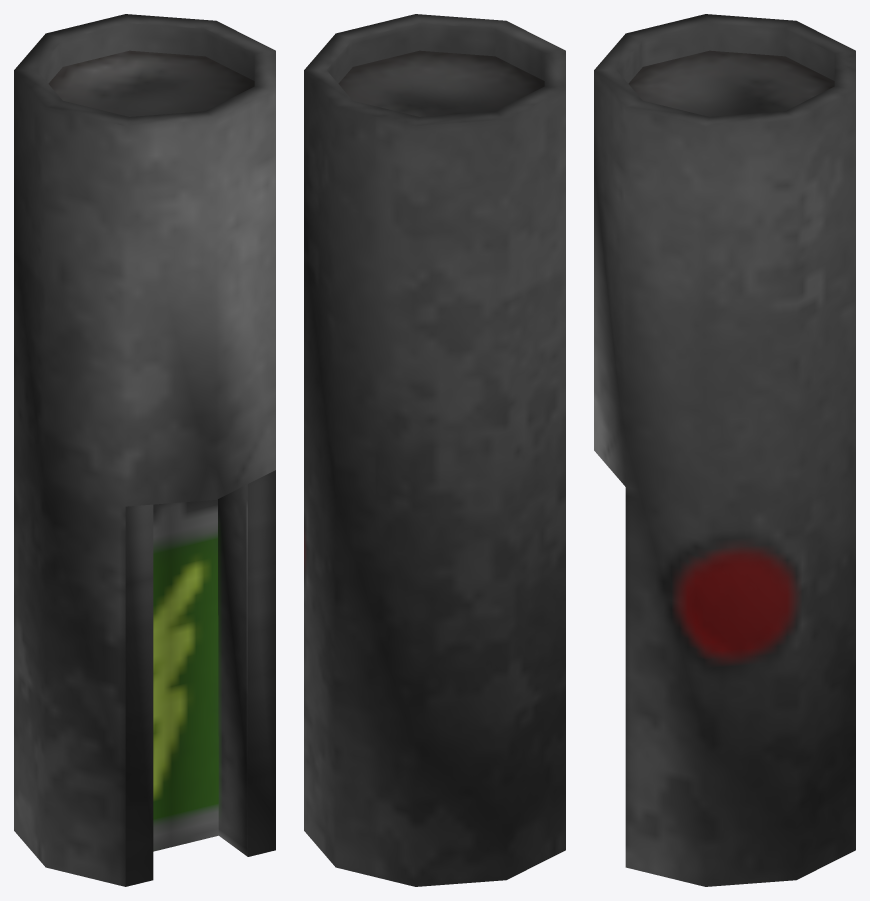
The model's file is TLOG_SmallPipeFlashlight.fbx.
The picture shows the model from 3 angles, left to right: view 1: azimuth 30°, elevation 25°; view 2: azimuth 150°, elevation 25°; view 3: azimuth 270°, elevation 25°; orthographic projection.
Parts seen in each view (by area): view 1: Cylinder; view 2: Cylinder; view 3: Cylinder.
Boxes of the visible parts, bbox=[...] form: Cylinder: bbox=[14, 14, 275, 886]; Cylinder: bbox=[304, 14, 565, 886]; Cylinder: bbox=[594, 14, 855, 886].
Size of the model in its own units: 0.028 by 0.0884 by 0.0276.
